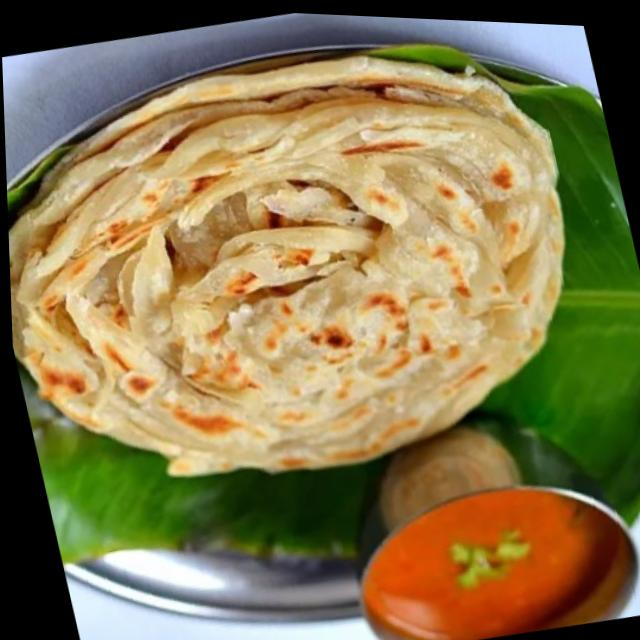CURRY: (368, 485, 627, 640)
PAROTTA: (8, 49, 565, 477)
